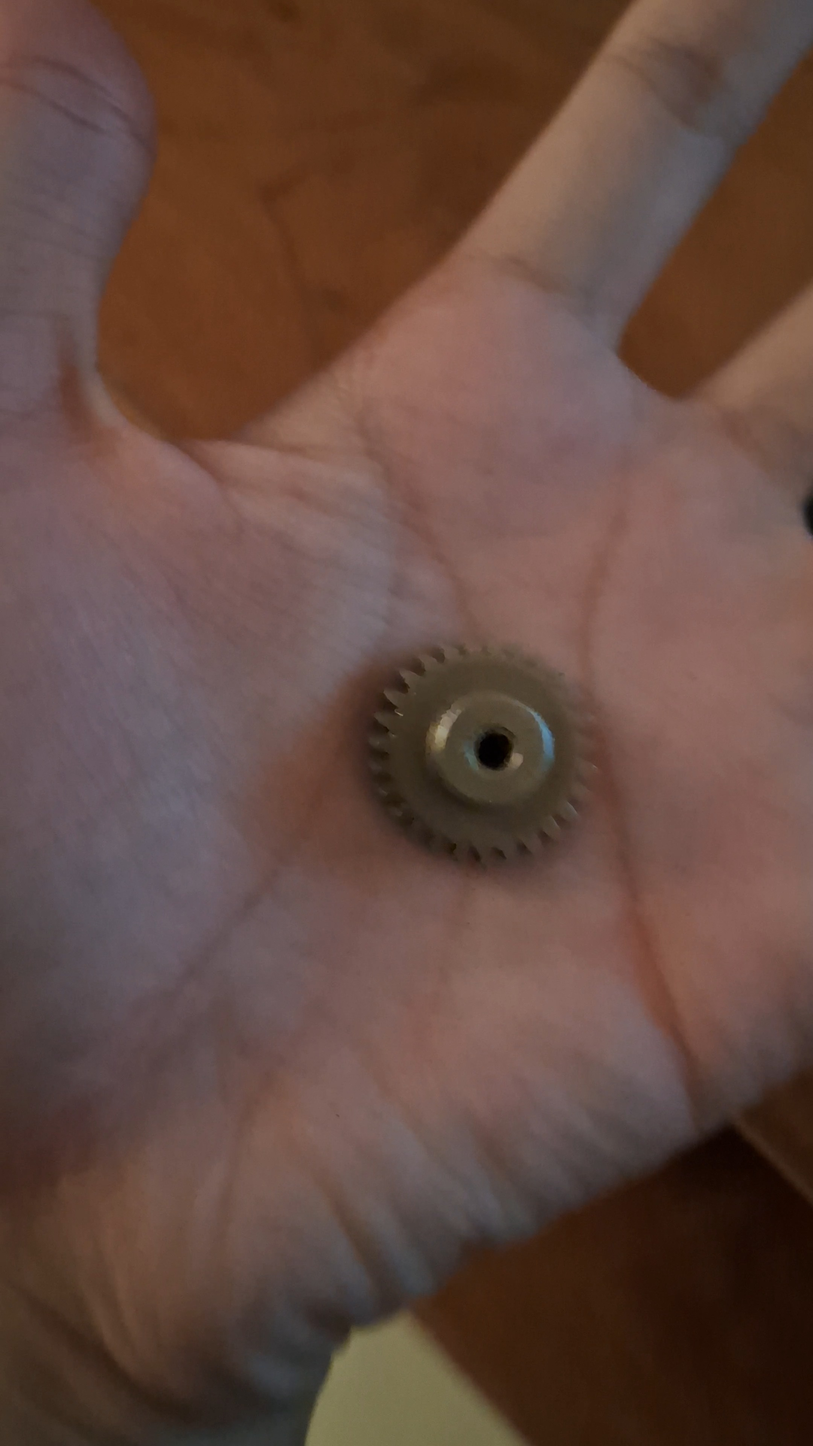spur gear: (369, 645, 590, 861)
